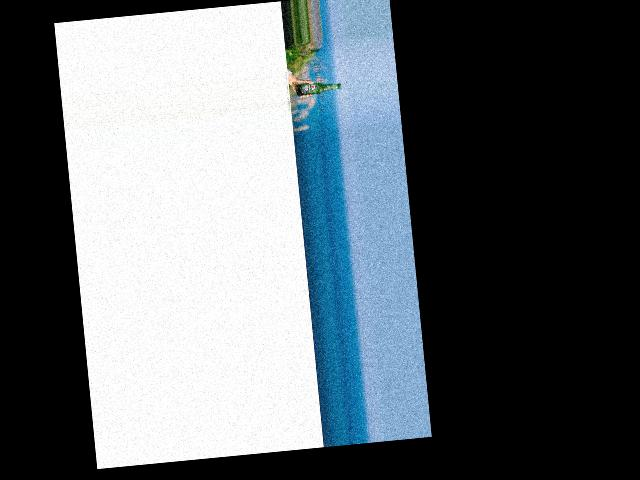beer: (295, 80, 341, 96)
